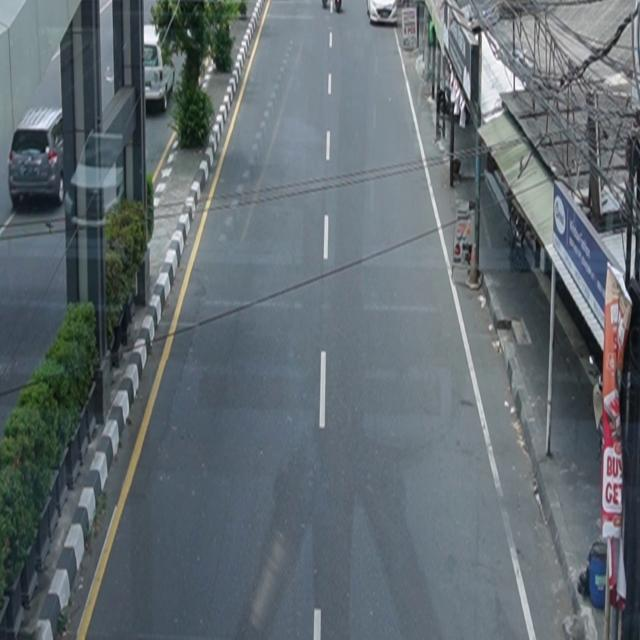car: (8, 106, 65, 209), (144, 41, 176, 113), (367, 1, 398, 26)
